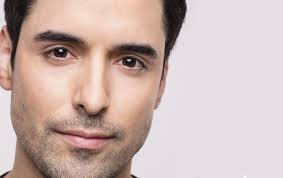noMask: (1, 3, 187, 178)
